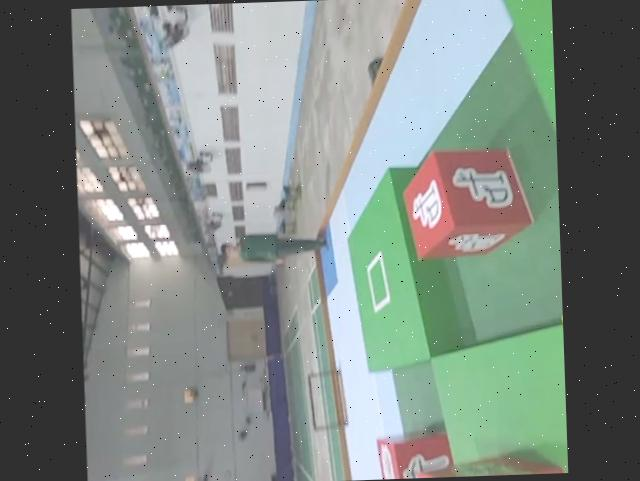R2 Real: (403, 148, 536, 261)
